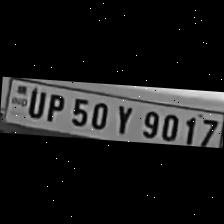0: (88, 98, 110, 130), (158, 110, 180, 142)
1: (178, 114, 198, 146)
5: (65, 94, 89, 127)
7: (196, 116, 218, 146)
9: (137, 106, 160, 139)
P: (42, 90, 66, 122)
U: (22, 87, 44, 118)
Y: (110, 102, 134, 136)
